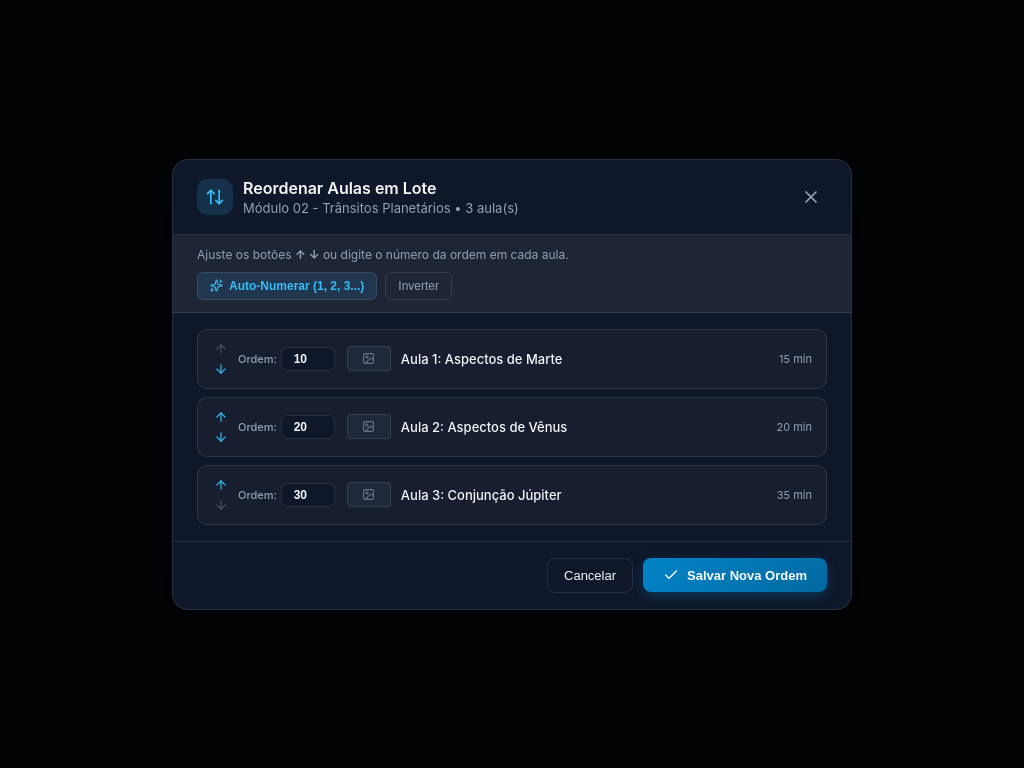
Scenario: BatchLessonOrderModal › permite auto-numerar sequencialmente 1, 2, 3...
The image size is (1024, 768).
Click the button with test id "batch-auto-number-btn".
click(287, 286)  # box [197,272,377,300]
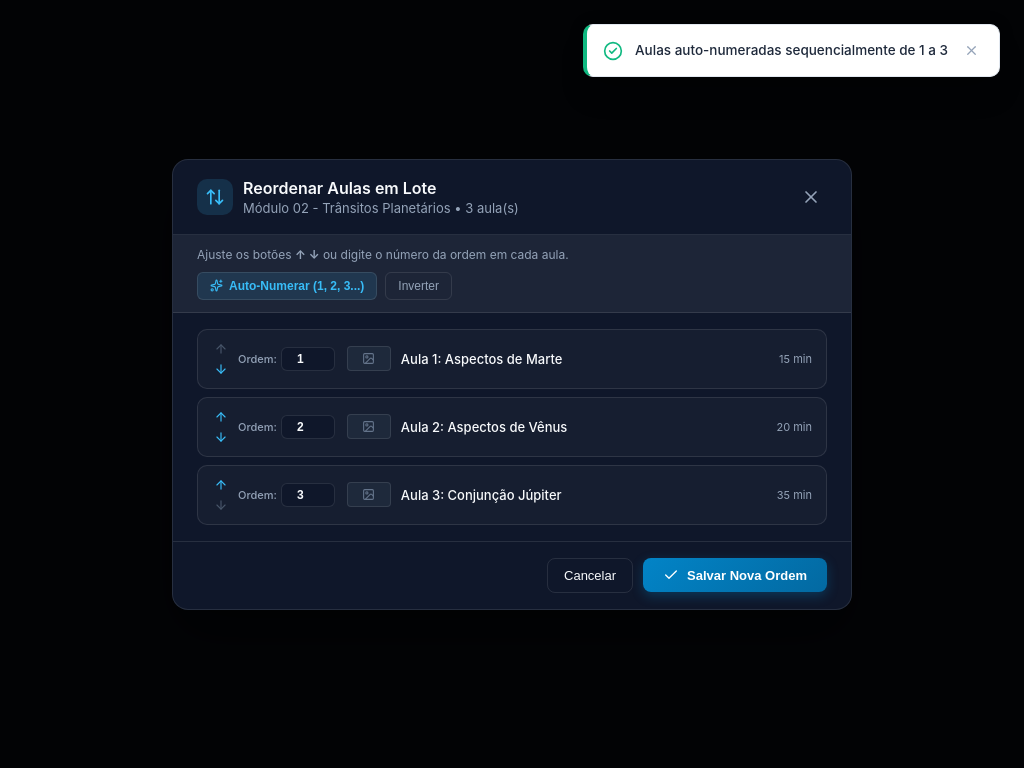
Result: the number field with test id "order-input-201" holds "1" at [281,346,335,370]
Result: the number field with test id "order-input-202" holds "2" at [281,414,335,438]
Result: the number field with test id "order-input-203" holds "3" at [281,482,335,506]
